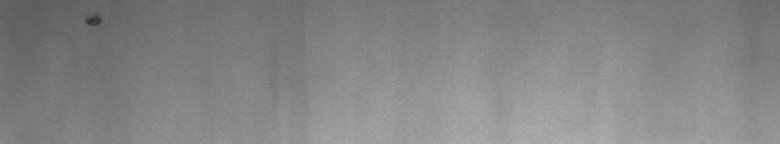fi: (81, 8, 104, 32)
